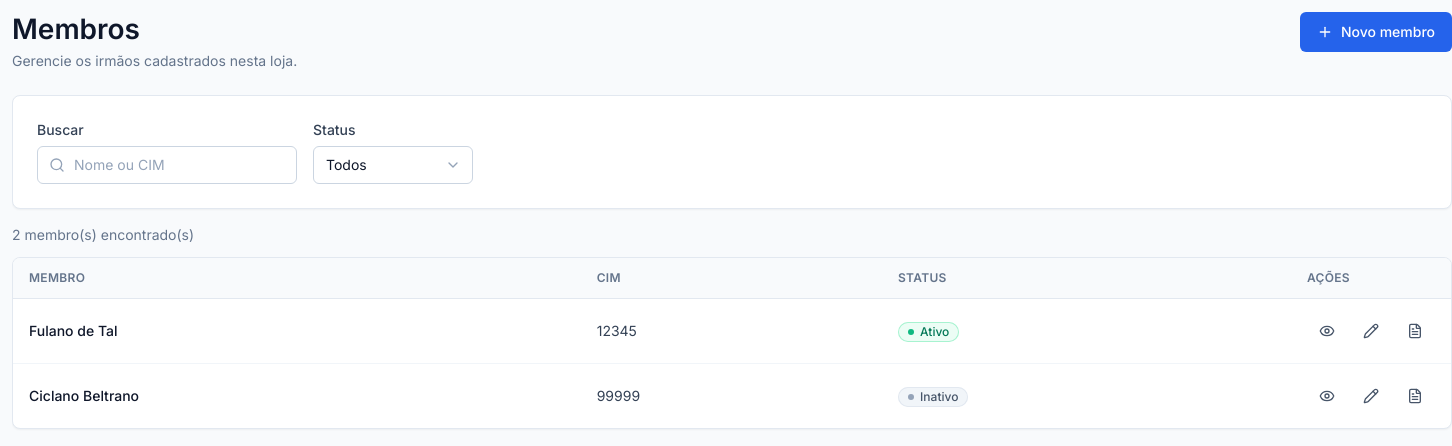
Test: MembrosListPage › filtra membros por nome/CIM e por status
Expected: the link "Fulano de Tal" is shown, x1=29 y1=322 x2=118 y2=339
Expected: the link "Ciclano Beltrano" is shown, x1=29 y1=387 x2=139 y2=404
Type "Fulano" into the field labelled "Buscar".
click(167, 165); type("Fulano")  # box x1=37 y1=146 x2=297 y2=184
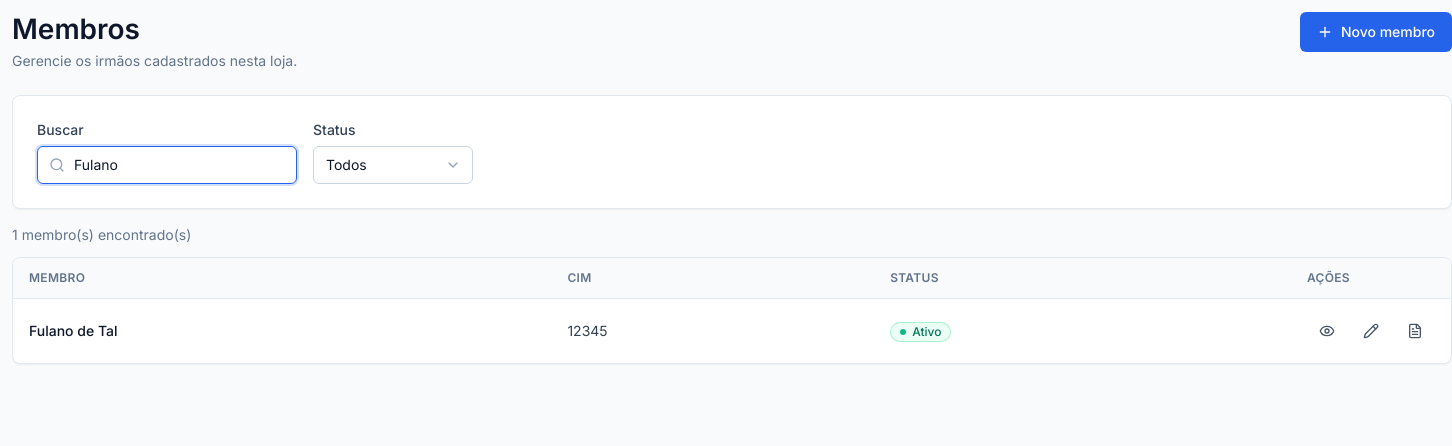
Expected: the link "Fulano de Tal" is shown, x1=29 y1=322 x2=118 y2=339
Expected: the link "Ciclano Beltrano" is gone
Clear the field labelled "Buscar" at (167, 165), box x1=37 y1=146 x2=297 y2=184
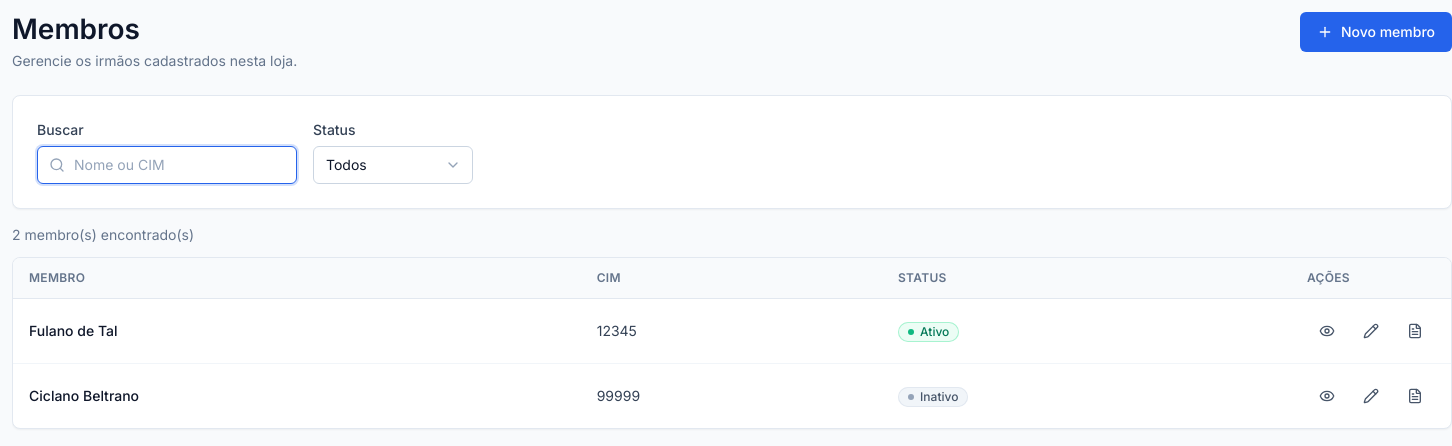
Select "Inativo" in the dropdown labelled "Status" at (393, 165), box x1=313 y1=146 x2=473 y2=184
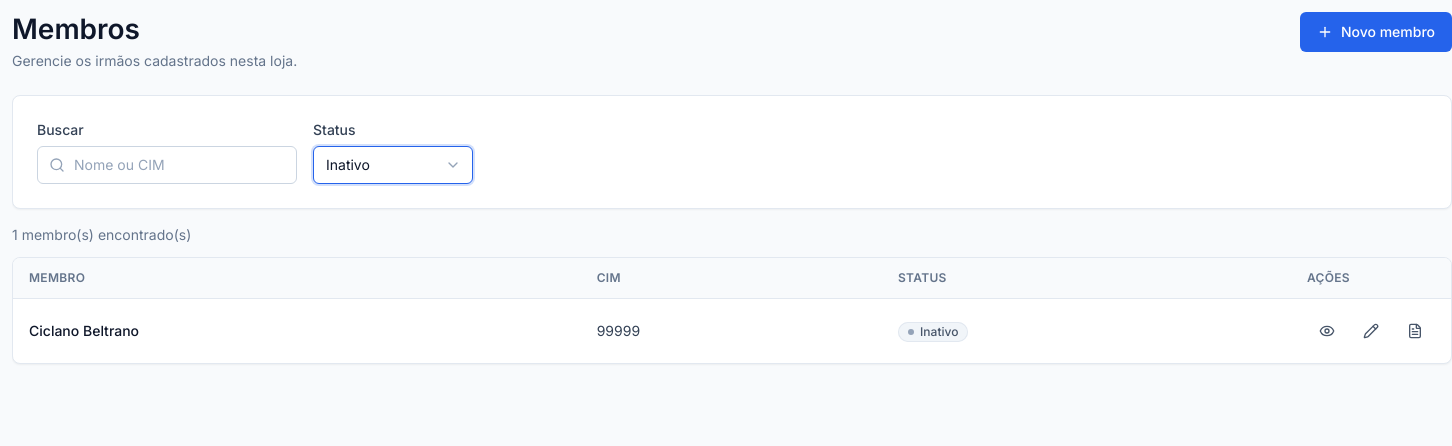
Expected: the link "Ciclano Beltrano" is shown, x1=29 y1=322 x2=139 y2=339
Expected: the link "Fulano de Tal" is gone
